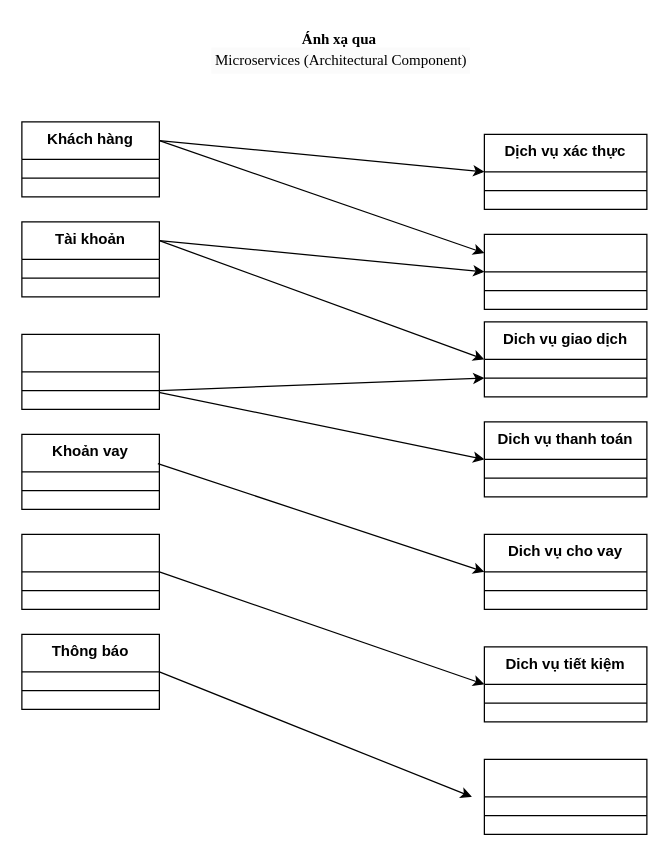
The diagram is 669 pixels wide and 856 high, and some of its shapes have lost their labels. The shapes that lost their labels are listed below. From the top down, each one's centre as x and y in pixels, then its label:
At [565,271]: "Dịch vụ tài khoản".
At [90,371]: "Giao dịch".
At [90,571]: "Tiết kiệm".
At [565,796]: "Dich vụ thông báo".
